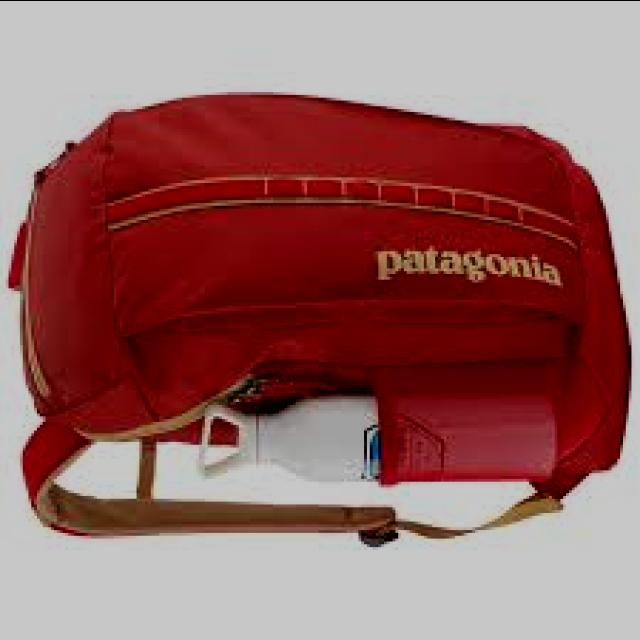backpack: (7, 92, 633, 547)
